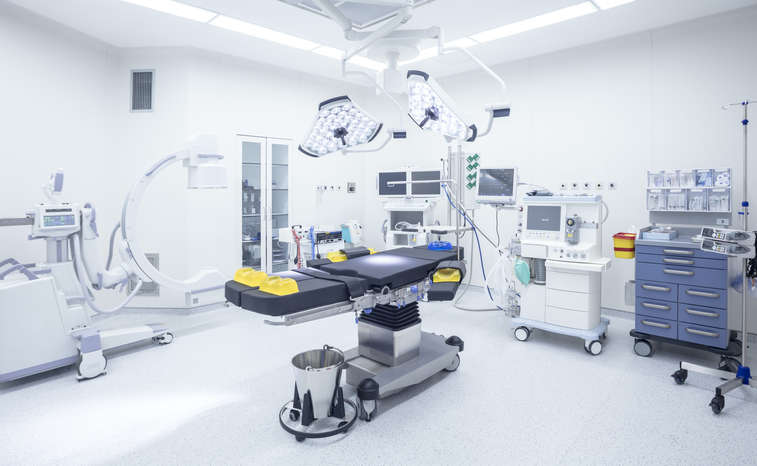bedside_monitor: (475, 166, 517, 206), (525, 207, 564, 239), (382, 207, 433, 231), (411, 171, 440, 197), (379, 171, 407, 197)
breathing_tube: (484, 250, 513, 312)
cabinet: (237, 129, 290, 277)
handle: (663, 248, 694, 255), (663, 258, 694, 265), (641, 302, 671, 309), (641, 321, 671, 328), (663, 269, 693, 276), (685, 329, 719, 335), (685, 310, 719, 316), (685, 291, 719, 297), (643, 286, 670, 293)
iv_pole: (721, 98, 757, 366)
medical_drawer: (637, 241, 719, 344), (522, 260, 602, 326)
medical_waste_container: (611, 229, 638, 259)
operating_bed: (225, 241, 466, 441)
surgical_light: (296, 95, 383, 158), (406, 69, 477, 143)
syringe_pump: (700, 225, 757, 260)
ventilator: (516, 195, 609, 354)
